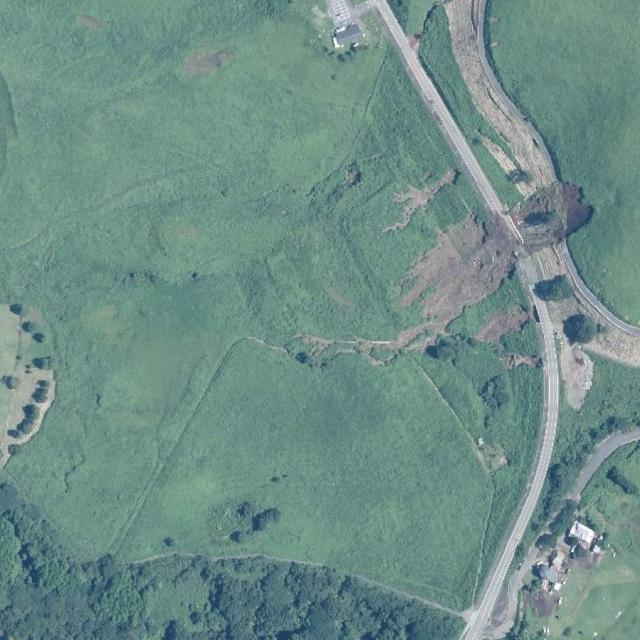landslide: (401, 215, 514, 336)
